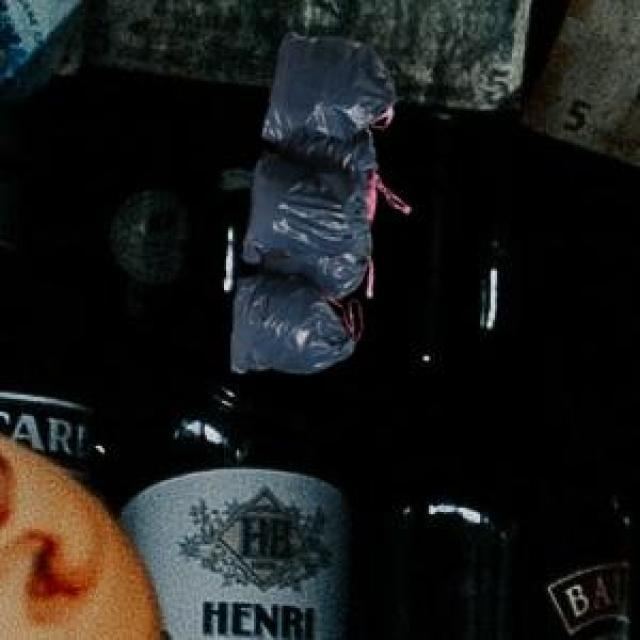Trashbag: (230, 141, 400, 296), (188, 256, 364, 388), (243, 37, 415, 131)
